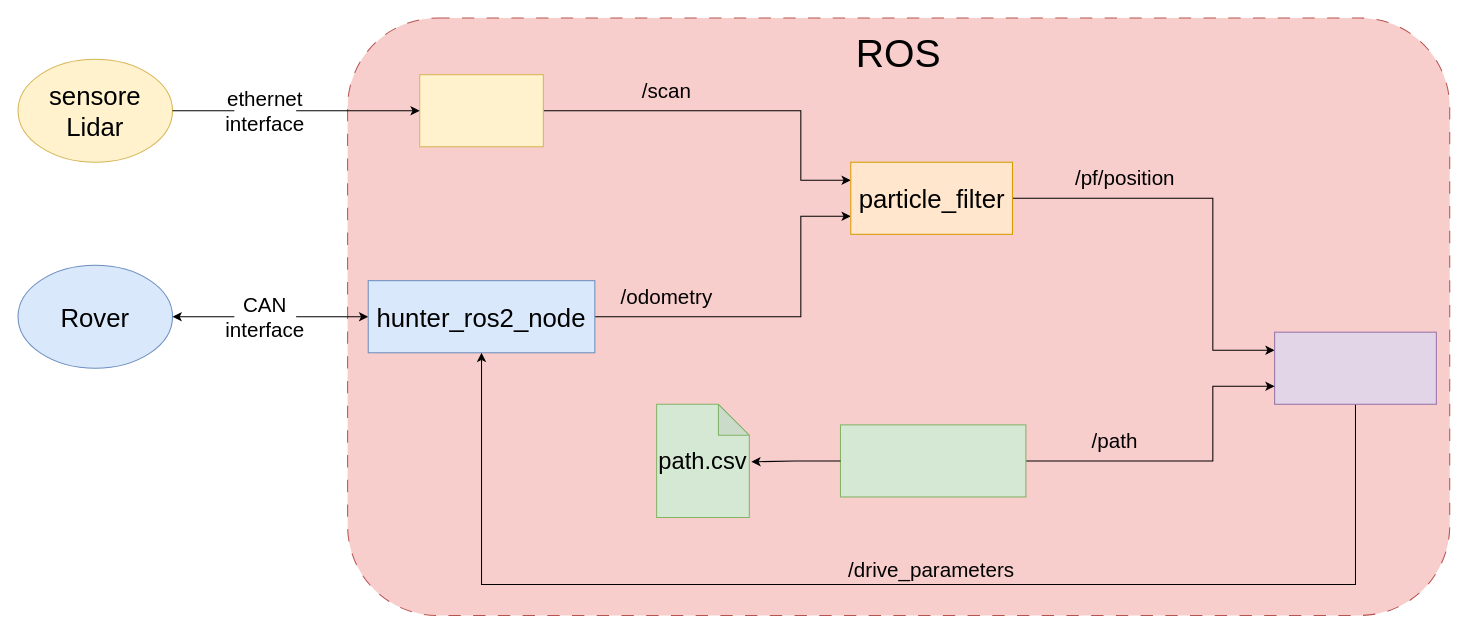
This 1468x633 diagram has some shape labels left out. The shapes that lost their labels are listed below. From the top down, each one's centre as x and y in pixels, then its label:
At pixel 481 110: "urg_node".
At pixel 1355 367: "purepursuit".
At pixel 932 460: "path_publisher".
